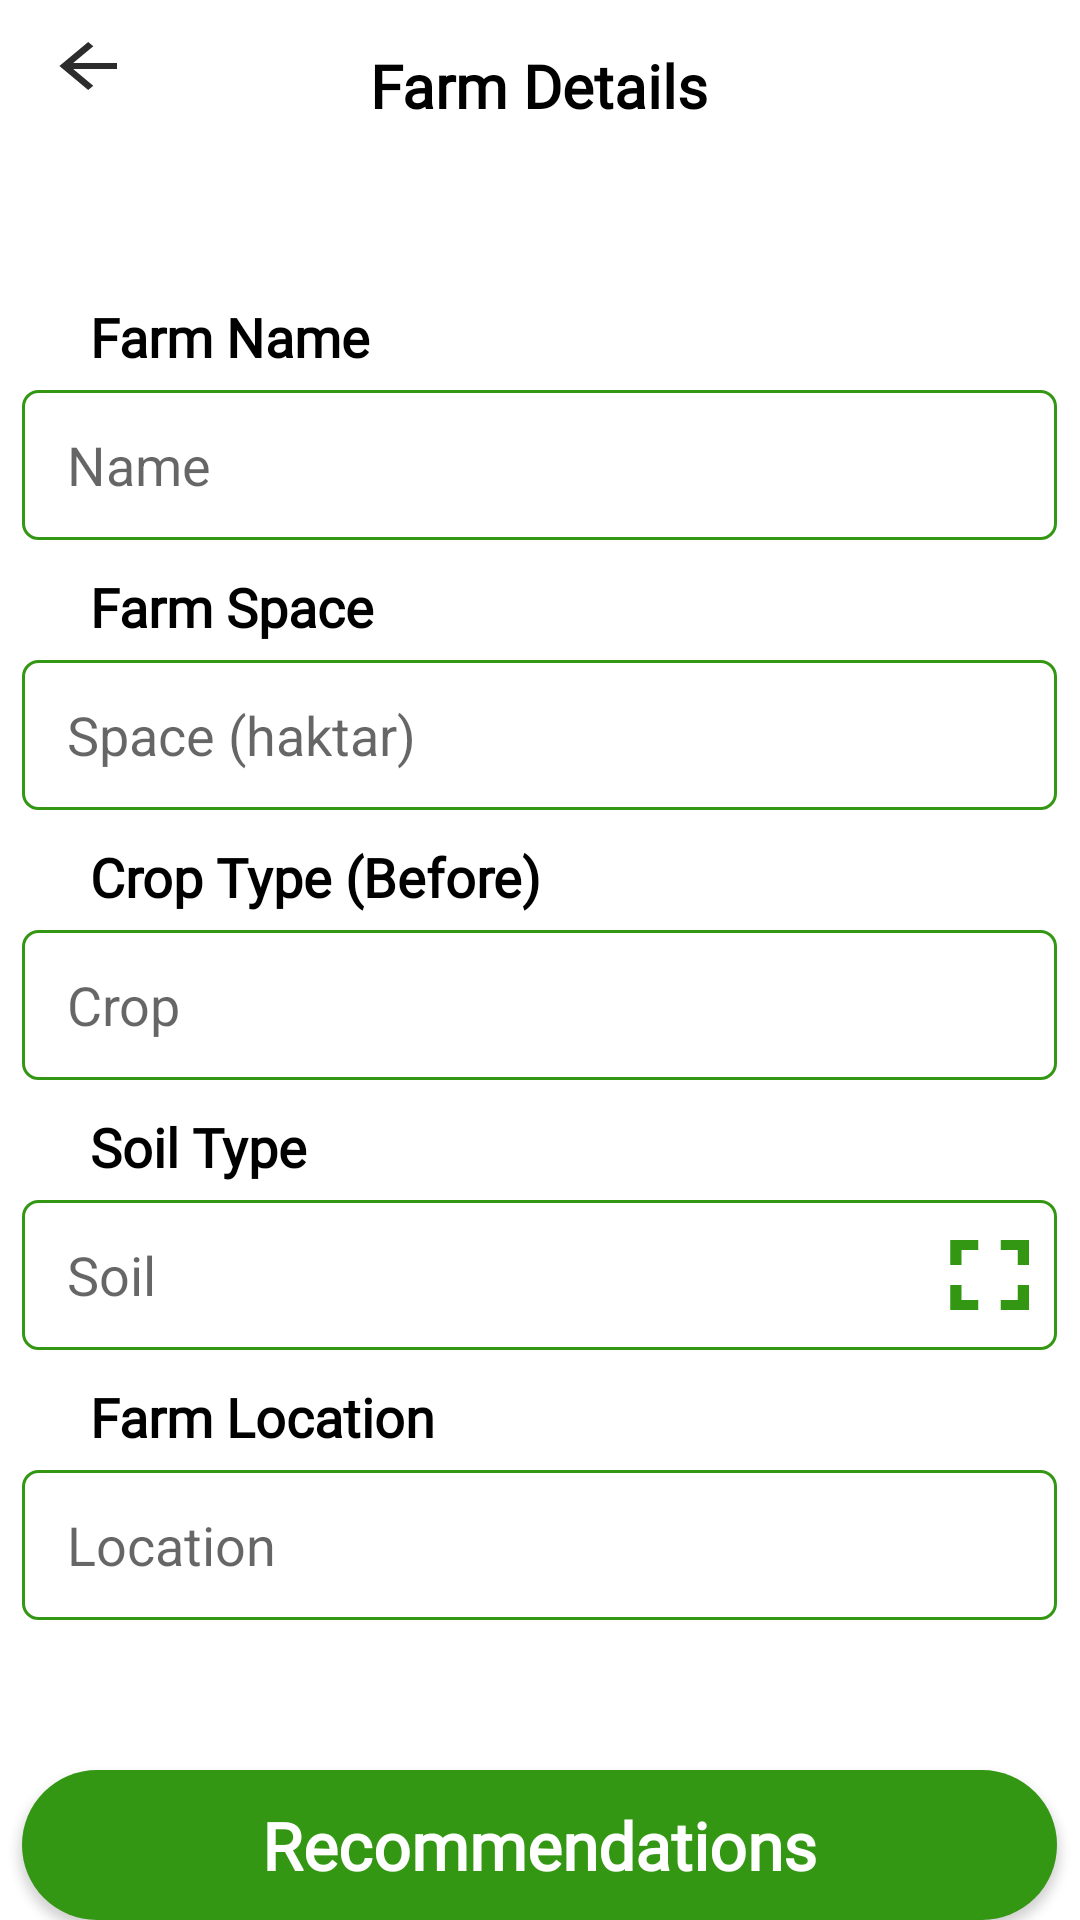

Point at icon controls on the screen. Image size 1080x1920, points as (x,y).
arrow back: (88,66)
fullscreen: (989,1275)
